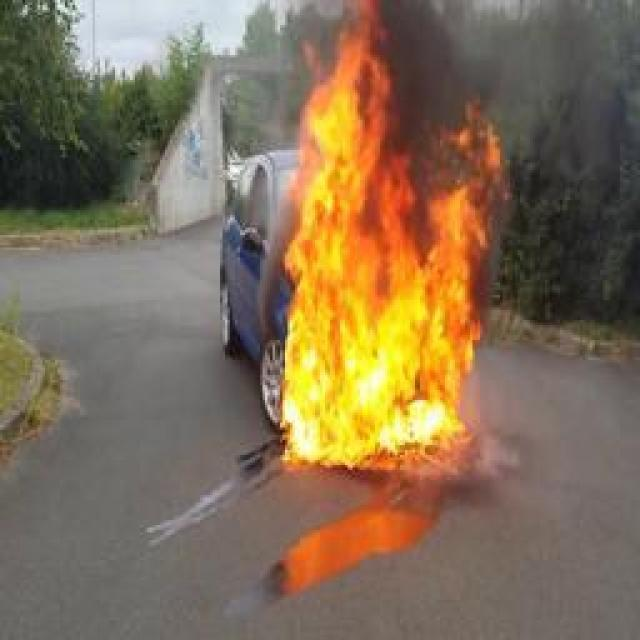Fire: (284, 2, 508, 468)
